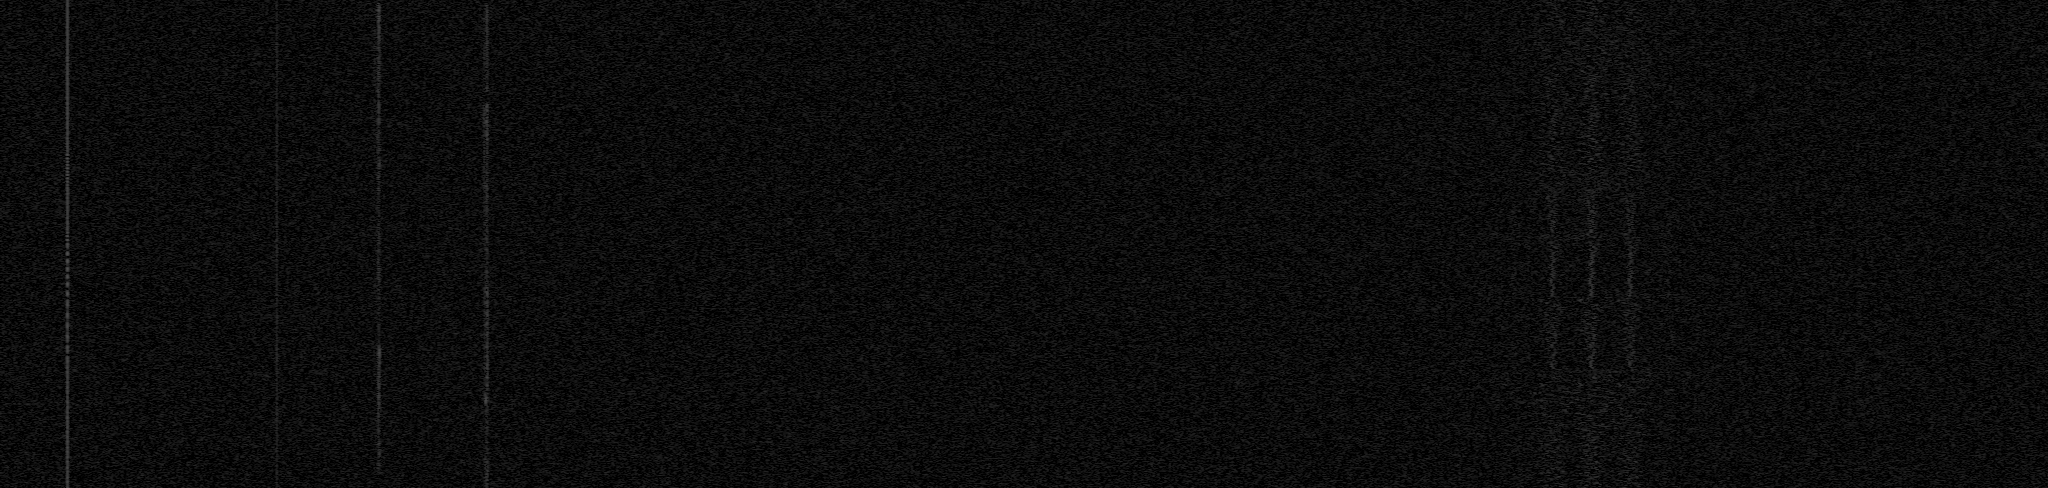wv_am: (274, 0, 280, 488), (64, 0, 71, 288), (64, 288, 71, 488)
wv_lsb: (474, 102, 498, 488), (372, 3, 381, 474), (481, 3, 490, 93)
wv_wbfm: (1481, 168, 1695, 339), (1492, 18, 1686, 110), (1488, 341, 1686, 402), (1536, 104, 1642, 133), (1523, 444, 1654, 465), (1512, 390, 1614, 404), (1529, 108, 1563, 117), (1573, 7, 1610, 14), (1578, 435, 1605, 444), (1540, 435, 1566, 444), (1571, 428, 1605, 435), (1610, 428, 1643, 435), (1533, 428, 1566, 435), (1651, 444, 1677, 451), (1576, 150, 1603, 158), (1610, 0, 1644, 5), (1571, 0, 1605, 5), (1532, 0, 1566, 5), (1569, 125, 1586, 136), (1618, 437, 1644, 444), (1571, 414, 1603, 419), (1536, 133, 1567, 138), (1575, 480, 1605, 485), (1576, 163, 1607, 168), (1614, 133, 1644, 138), (1575, 133, 1605, 138), (1614, 480, 1643, 485), (1537, 480, 1566, 485), (1539, 163, 1567, 168), (1610, 10, 1647, 14), (1652, 428, 1680, 433), (1497, 428, 1524, 433), (1612, 414, 1639, 419), (1617, 163, 1644, 168), (1533, 10, 1569, 14), (1535, 414, 1561, 419), (1501, 163, 1527, 168), (1655, 133, 1681, 138), (1499, 133, 1526, 138), (1578, 466, 1603, 471), (1661, 394, 1694, 398), (1541, 466, 1563, 471), (1627, 408, 1650, 414), (1588, 408, 1610, 414), (1620, 153, 1642, 158), (1541, 153, 1563, 158), (1616, 144, 1644, 147), (1576, 144, 1605, 147), (1661, 111, 1678, 117), (1506, 111, 1523, 117), (1620, 466, 1640, 471), (1550, 408, 1571, 414), (1659, 153, 1680, 158), (1503, 153, 1524, 158), (1539, 144, 1566, 147), (1505, 444, 1524, 449), (1668, 408, 1688, 414), (1587, 138, 1607, 144), (1652, 10, 1677, 14), (1497, 10, 1522, 14), (1489, 40, 1507, 46), (1512, 408, 1531, 414), (1587, 424, 1610, 428), (1627, 424, 1650, 428), (1549, 424, 1571, 428), (1652, 414, 1672, 418), (1497, 414, 1516, 418), (1486, 35, 1505, 39), (1512, 424, 1531, 428), (1656, 144, 1674, 147), (1499, 144, 1518, 147), (1563, 406, 1590, 408), (1524, 406, 1550, 408), (1546, 476, 1563, 480), (1661, 461, 1678, 465), (1624, 476, 1640, 480), (1586, 476, 1603, 480), (1629, 125, 1646, 129), (1603, 406, 1627, 408), (1630, 140, 1646, 144), (1552, 140, 1567, 144), (1643, 111, 1659, 115), (1569, 421, 1591, 424), (1507, 461, 1522, 465), (1668, 164, 1682, 168), (1664, 476, 1678, 480), (1672, 60, 1691, 63), (1509, 476, 1522, 480), (1531, 421, 1550, 424), (1562, 144, 1575, 147), (1609, 421, 1627, 424), (1689, 46, 1701, 50), (1514, 481, 1526, 485), (1550, 147, 1562, 151), (1637, 402, 1654, 404), (1486, 391, 1503, 394), (1671, 481, 1681, 485), (1672, 424, 1688, 427), (1537, 150, 1553, 153), (1650, 421, 1664, 424), (1678, 448, 1688, 451), (1678, 52, 1690, 55), (1667, 467, 1678, 470), (1694, 174, 1702, 177), (1510, 120, 1522, 123), (1688, 38, 1698, 40), (1511, 467, 1522, 470), (1532, 129, 1543, 132), (1505, 449, 1514, 451), (1537, 132, 1546, 134), (1693, 181, 1698, 185), (1476, 174, 1481, 177), (1469, 174, 1473, 177), (1614, 132, 1620, 134), (1475, 284, 1477, 288)
